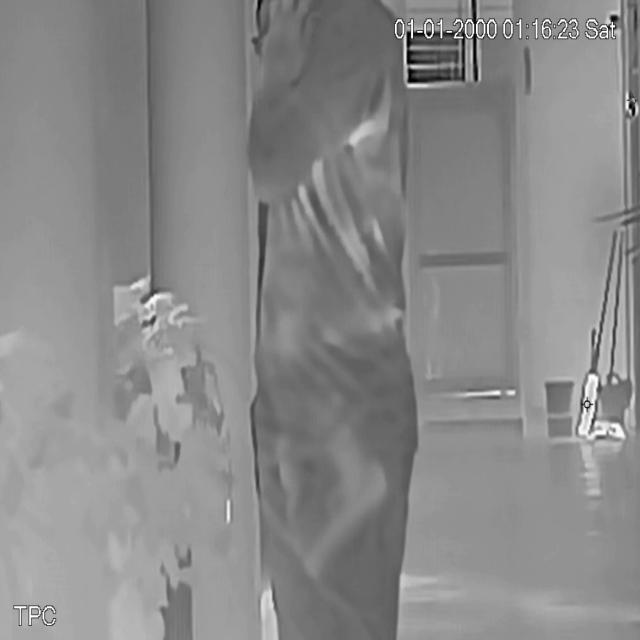Weapon: (295, 418, 395, 586)
